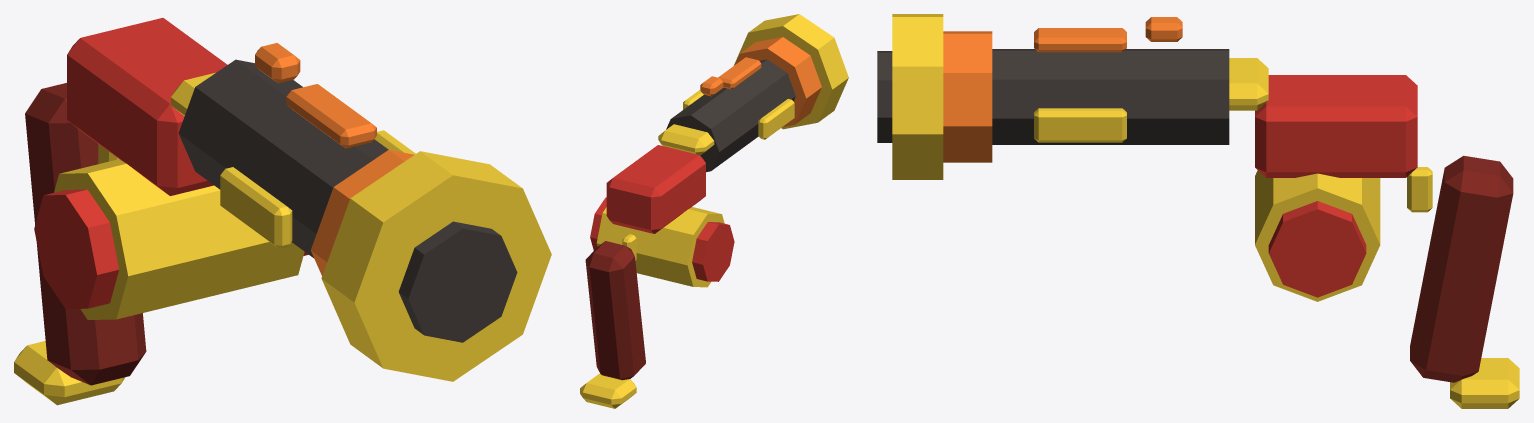
Rendered from FlameGun.glb.
The picture shows the model from 3 angles, left to right: view 1: azimuth 30°, elevation 25°; view 2: azimuth 150°, elevation 25°; view 3: azimuth 270°, elevation 25°; orthographic projection. The views are drawn at different scales.
Parts seen in each view (by area): view 1: NozzleBell, FuelCell, FlameTube, Receiver, Grip, NozzleOpening, FuelCapLeft, HeatFinLeft, HeatFinTop, NozzleBase, GripCap, PilotLight (+1 smaller); view 2: Grip, Receiver, FlameTube, FuelCell, NozzleBell, NozzleBase, FuelCapLeft, GripCap, HeatShield, HeatFinLeft, HeatFinTop, FuelCapRight (+1 smaller); view 3: FlameTube, Receiver, Grip, NozzleBell, FuelCapRight, FuelCell, NozzleBase, HeatFinRight, GripCap, HeatFinTop, HeatShield, NozzleOpening (+2 smaller).
Part boxes in pixels (<box>): NozzleBell: <box>321,151,551,381</box>; FuelCell: <box>54,159,304,319</box>; FlameTube: <box>178,59,388,257</box>; Receiver: <box>67,18,227,195</box>; Grip: <box>25,83,146,385</box>; NozzleOpening: <box>398,221,517,342</box>; FuelCapLeft: <box>34,189,119,308</box>; HeatFinLeft: <box>220,167,292,248</box>; HeatFinTop: <box>286,84,376,148</box>; NozzleBase: <box>310,150,414,276</box>; GripCap: <box>14,341,125,405</box>; PilotLight: <box>255,43,300,83</box>; Grip: <box>585,241,645,380</box>; Receiver: <box>606,145,705,233</box>; FlameTube: <box>666,59,795,172</box>; FuelCell: <box>596,207,724,287</box>; NozzleBell: <box>733,14,848,129</box>; NozzleBase: <box>735,37,821,126</box>; FuelCapLeft: <box>692,222,734,281</box>; GripCap: <box>580,373,636,408</box>; HeatShield: <box>658,124,714,155</box>; HeatFinLeft: <box>758,99,794,139</box>; HeatFinTop: <box>718,57,761,89</box>; FuelCapRight: <box>590,197,606,250</box>; FlameTube: <box>992,49,1229,144</box>; Receiver: <box>1255,75,1417,177</box>; Grip: <box>1410,155,1513,382</box>; NozzleBell: <box>892,14,943,179</box>; FuelCapRight: <box>1268,201,1366,297</box>; FuelCell: <box>1255,170,1380,301</box>; NozzleBase: <box>943,31,992,162</box>; HeatFinRight: <box>1034,108,1126,142</box>; GripCap: <box>1450,358,1519,408</box>; HeatFinTop: <box>1034,28,1126,52</box>; HeatShield: <box>1229,58,1268,110</box>; NozzleOpening: <box>877,51,892,142</box>.
Bounding box in the file's own units: 0.435 × 0.905 × 1.38.
